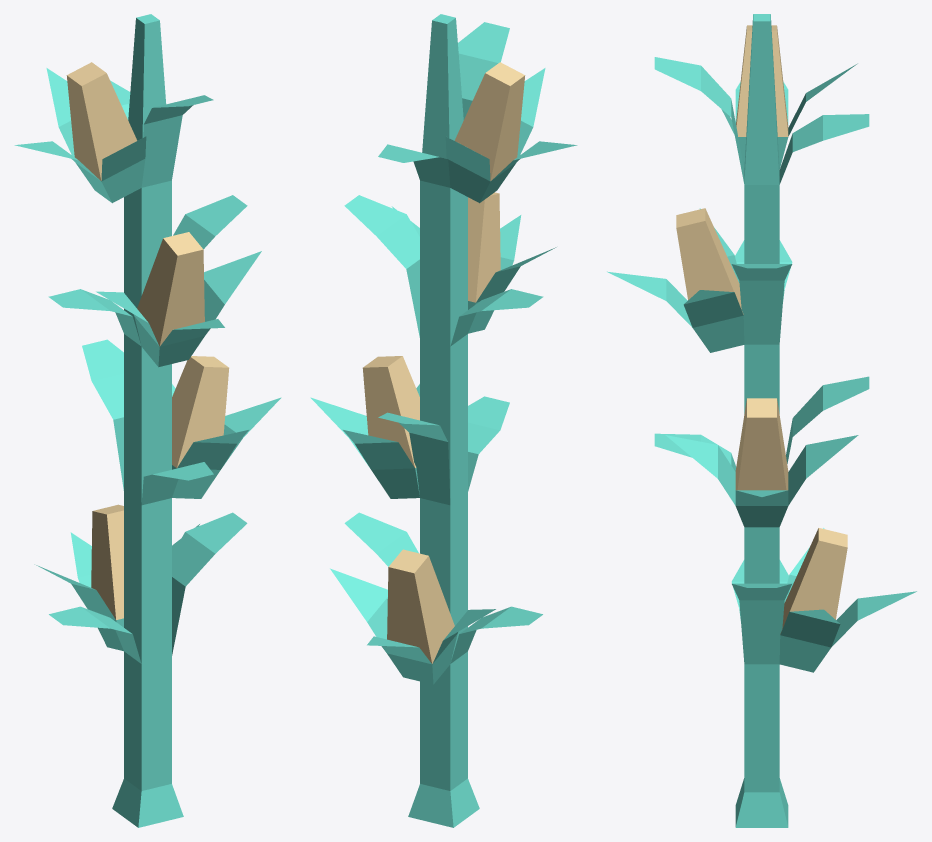
3 renders of one model, left to right at view 1: azimuth 30°, elevation 25°; view 2: azimuth 150°, elevation 25°; view 3: azimuth 270°, elevation 25°, orthographic.
Parts seen in each view (by area): view 1: crops_cornStageD, corn (×4); view 2: crops_cornStageD, corn (×4); view 3: crops_cornStageD, corn (×4).
Part boxes in pixels (x1,y1,x2,y2): crops_cornStageD: [48, 14, 247, 827]; corn (×4): [14, 62, 281, 651]; crops_cornStageD: [344, 14, 543, 827]; corn (×4): [310, 62, 577, 684]; crops_cornStageD: [654, 14, 869, 827]; corn (×4): [607, 25, 916, 672].
Bounding box in the file's own units: 0.4416 × 1.25 × 0.4416.
